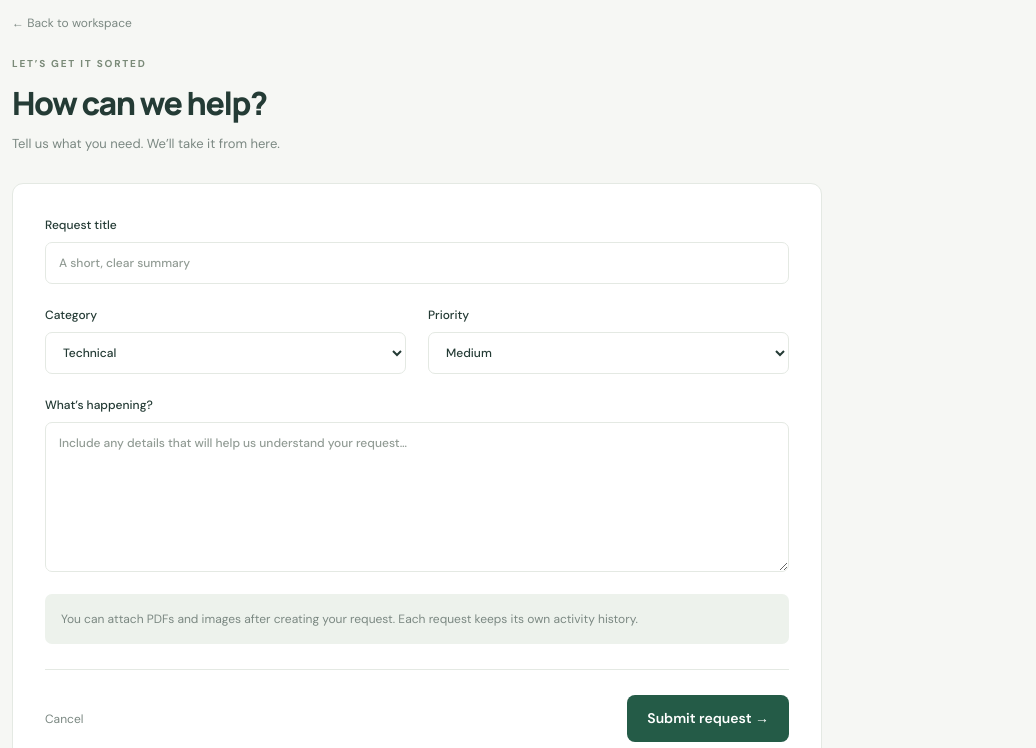
Test: shows inline errors when an empty request is submitted
What coordinates should you click on to do the following:
click the button "Submit request →"
I would click on:
 (708, 719)
Its box is [627,695,789,742].
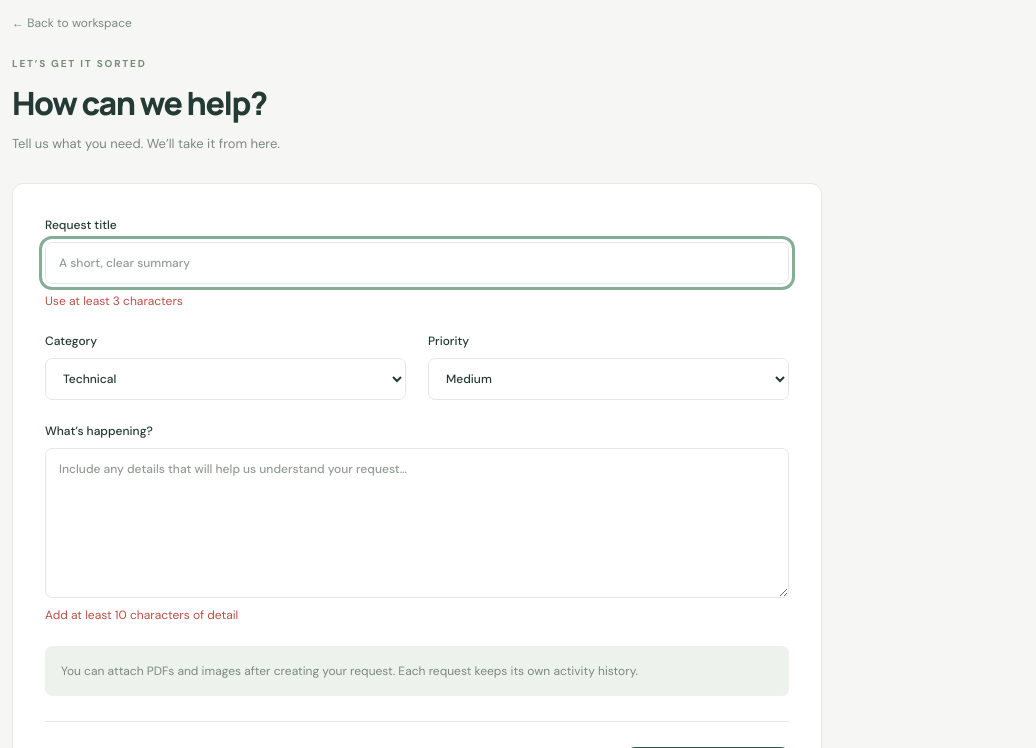
Result: the text "Use at least 3 characters" is shown at [45,293,183,309]
Result: the text "Add at least 10 characters of detail" is shown at [45,607,238,623]
